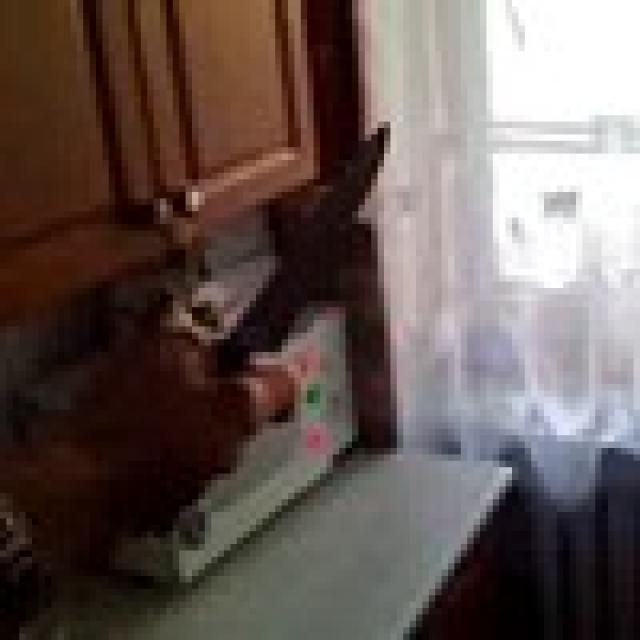Knife: (230, 109, 410, 397)
